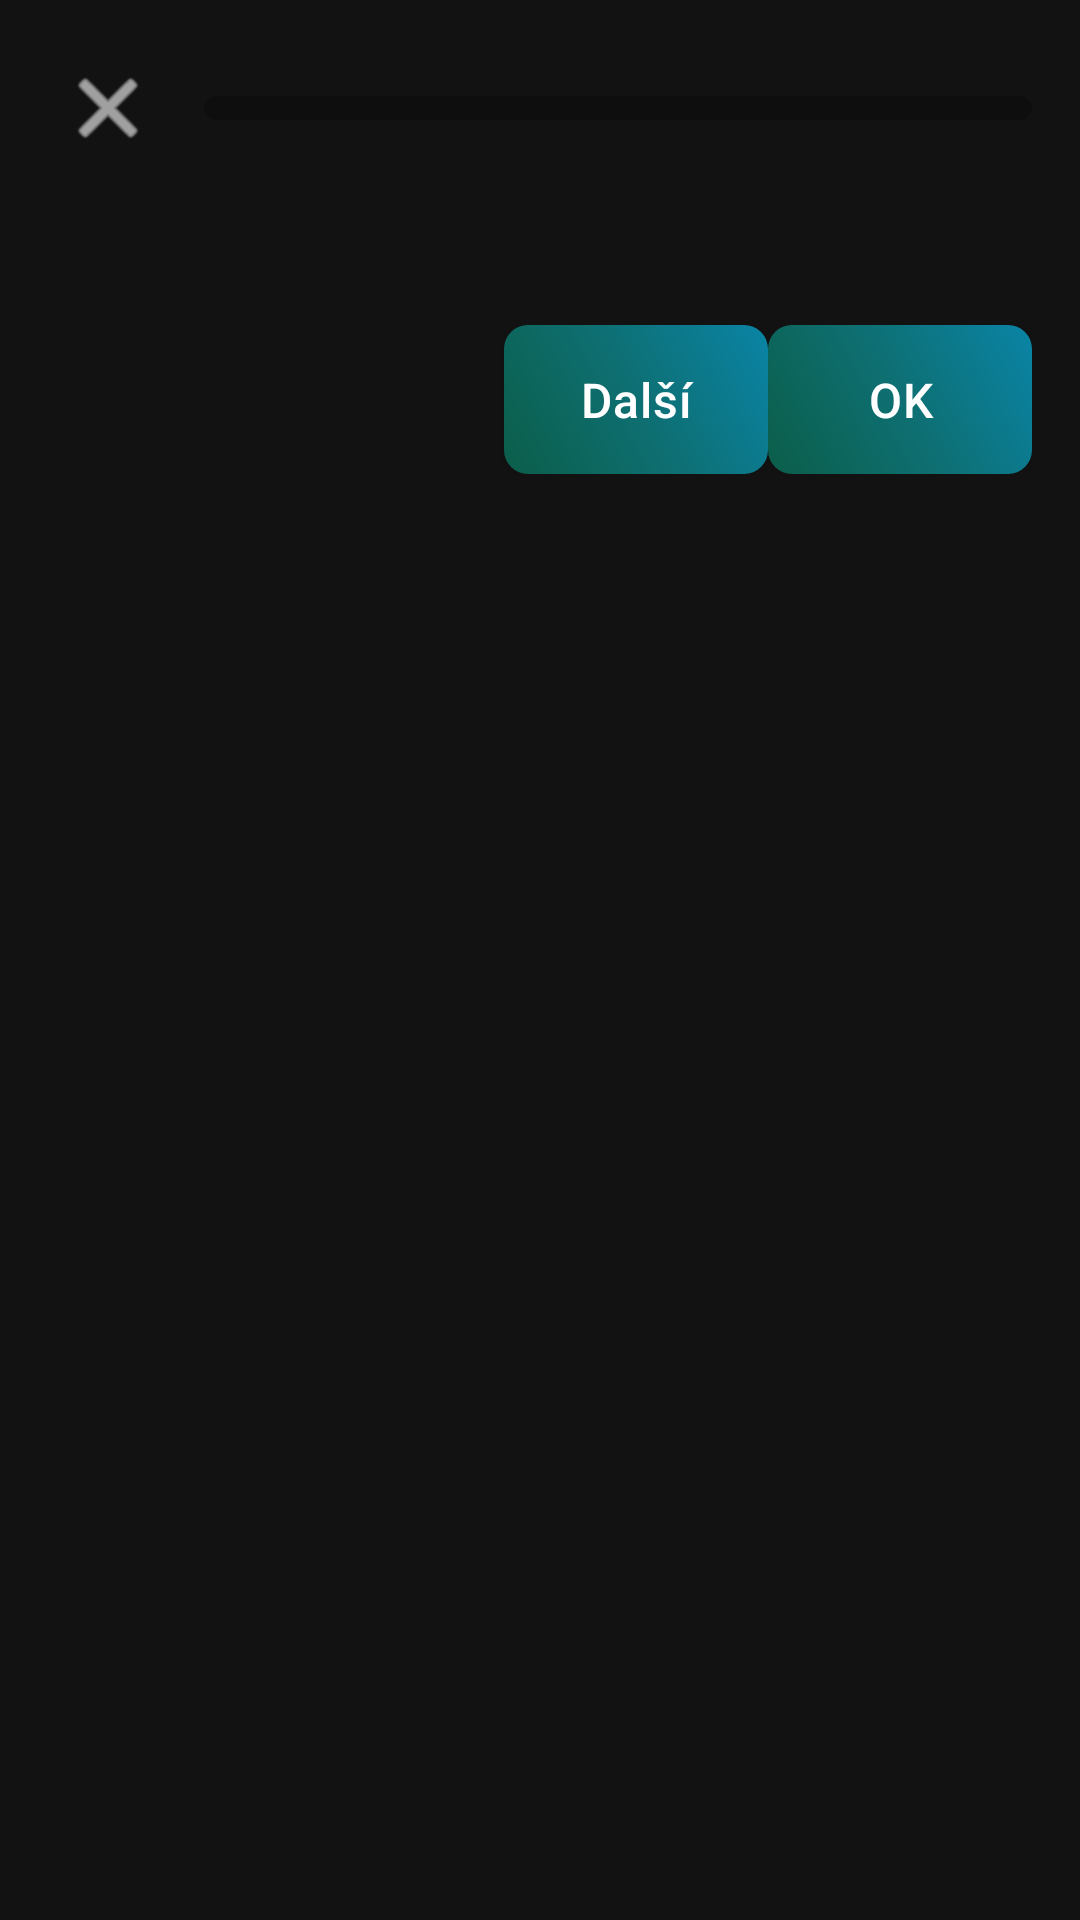

Screen size 1080x1920. Icon name, then its box in pixels as box(x1, y1, x2, y2):
Zavřít lekci: box(78, 78, 138, 138)
